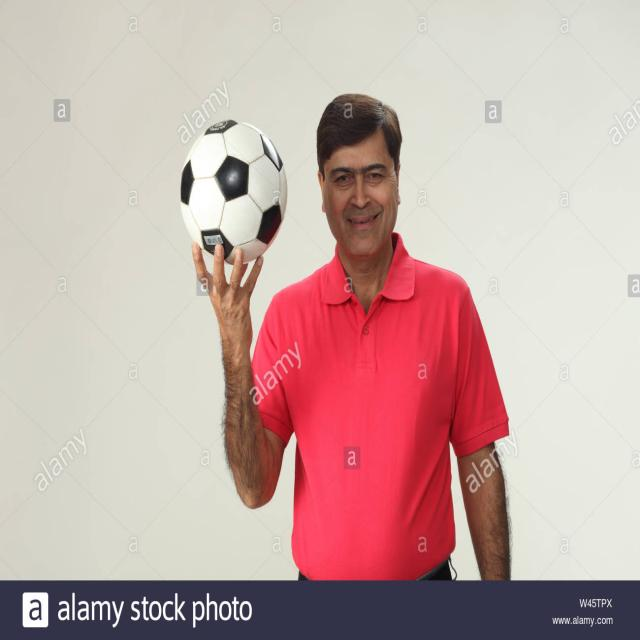soccer ball: (182, 120, 288, 267)
